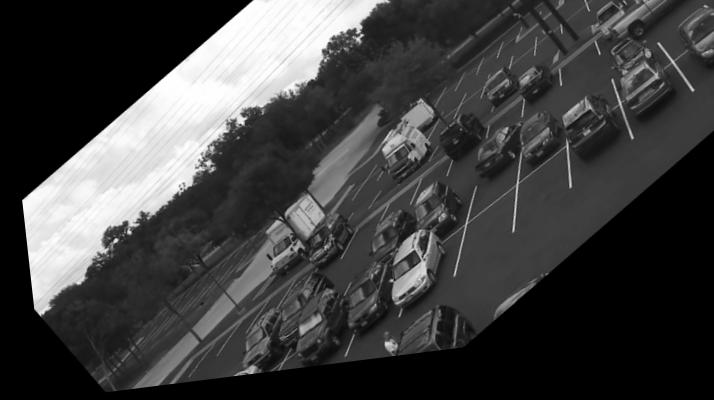empty: (453, 203, 509, 285), (511, 163, 561, 233), (647, 13, 696, 58), (555, 53, 599, 102), (337, 219, 376, 263), (189, 329, 231, 367), (374, 190, 413, 230), (483, 114, 516, 155), (219, 313, 254, 349), (349, 170, 381, 205), (250, 289, 283, 322), (567, 89, 601, 121), (409, 170, 441, 203), (559, 17, 588, 50), (325, 267, 355, 297), (530, 40, 558, 72), (585, 0, 616, 28), (425, 119, 452, 148), (533, 27, 559, 57), (451, 101, 478, 129), (558, 9, 582, 36), (508, 46, 532, 73), (458, 85, 483, 110), (434, 101, 458, 127), (485, 63, 507, 89), (497, 37, 516, 67), (508, 59, 531, 83), (433, 90, 455, 113), (579, 0, 607, 18), (475, 59, 494, 85), (455, 75, 473, 98), (558, 0, 579, 18), (460, 113, 485, 128), (530, 66, 548, 80)
occupied: (380, 239, 445, 319), (612, 69, 672, 139), (557, 108, 613, 182), (390, 315, 471, 365), (287, 295, 340, 371), (452, 160, 507, 229), (338, 271, 387, 347), (291, 221, 349, 280), (376, 130, 426, 194), (271, 279, 322, 339), (671, 17, 714, 87), (360, 219, 411, 272), (407, 191, 458, 243), (434, 124, 483, 177), (233, 314, 272, 374), (516, 126, 557, 182), (513, 77, 551, 120), (477, 79, 516, 119), (594, 17, 629, 56), (608, 56, 652, 87), (628, 0, 666, 29)
